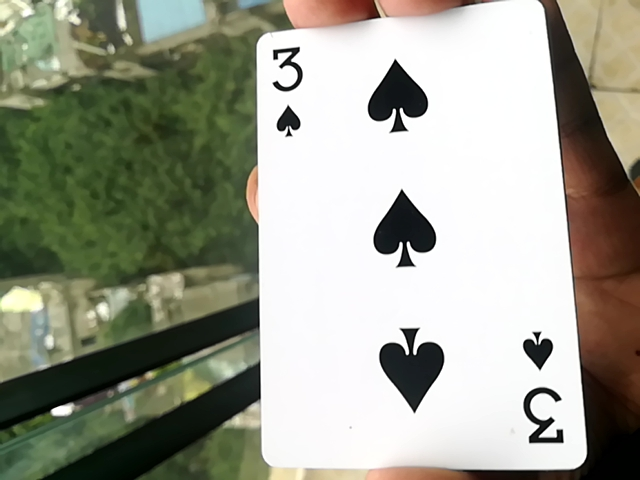ht 3: (240, 11, 596, 468)
